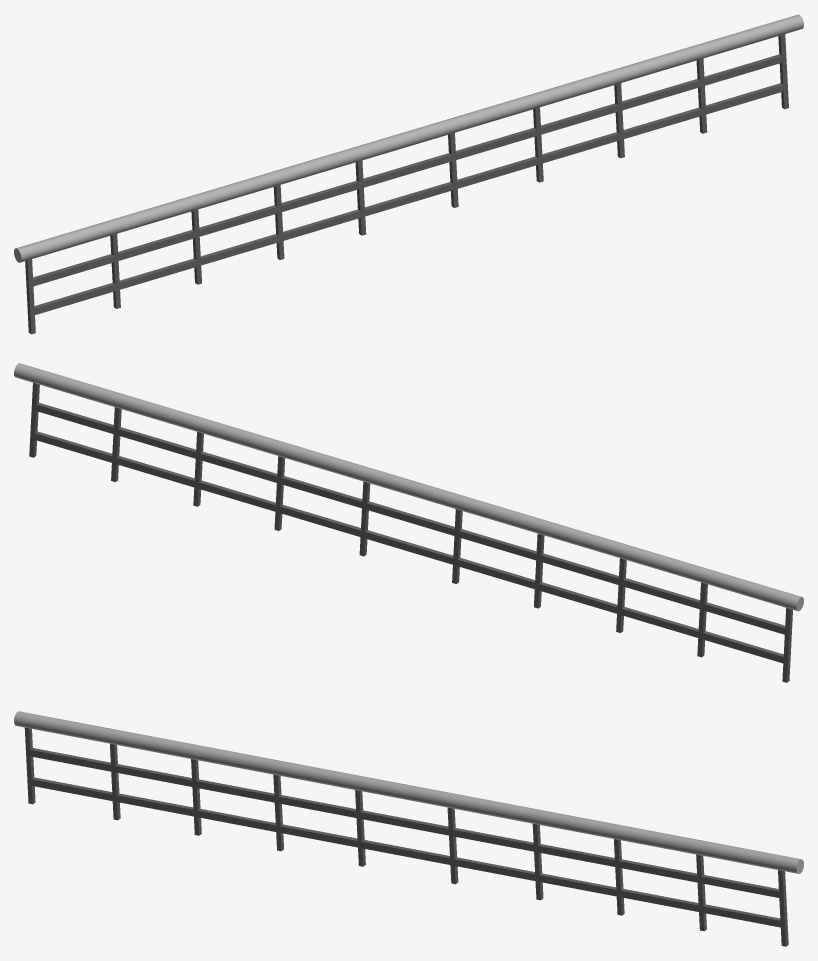
Rendered from Baranda4Unity.fbx.
3 views of the same model, one above another, from view 1: azimuth 30°, elevation 25°; view 2: azimuth 150°, elevation 25°; view 3: azimuth 330°, elevation 25° (orthographic).
Parts seen in each view (by area): view 1: Baranda.012; view 2: Baranda.012; view 3: Baranda.012.
Part boxes in pixels (x1,y1,x2,y2): Baranda.012: (14,14,803,334); Baranda.012: (14,363,803,682); Baranda.012: (14,711,803,946).
Bounding box in the file's own units: 1739 × 277 × 28.89.
1 material, 1 textured.
